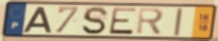7: (56, 5, 80, 35)
A: (21, 6, 53, 34)
E: (107, 7, 139, 36)
I: (173, 7, 184, 37)
R: (135, 7, 166, 37)
S: (81, 5, 110, 36)
